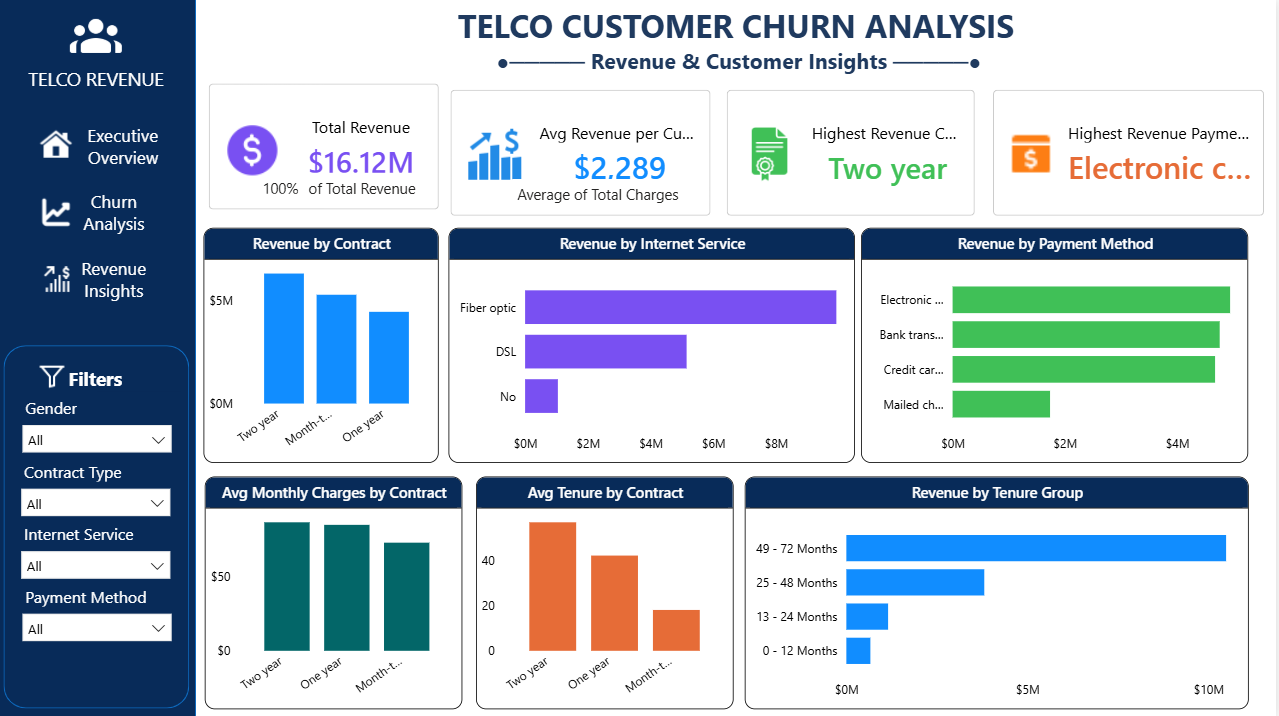

This screenshot's page, from the dashboard's own definition file:
{"tool":"powerbi","page":{"name":"Revenue Insights","canvas":[1280,720],"ordinal":2},"visuals":[{"type":"shape","box":[0,0,200,720],"z":0},{"type":"image","box":[55.7,11.4,87.1,51.4],"z":1000},{"type":"textbox","box":[0,62.9,200,37.1],"z":2000},{"type":"actionButton","box":[7.1,114.3,185.7,65.7],"z":3000},{"type":"actionButton","box":[7.3,179.8,185.9,66],"z":4000},{"type":"actionButton","box":[7.3,245.8,185.9,67.3],"z":5000},{"type":"shape","box":[7.2,346.2,185.8,363.1],"z":6000},{"type":"image","box":[30,362.9,51.4,31.4],"z":7000},{"type":"textbox","box":[67.1,362.9,90,38.6],"z":8000},{"type":"slicer","fields":{"Values":["public tcc.gender"]},"box":[15.7,392.1,168.9,88.1],"z":9000},{"type":"slicer","fields":{"Values":["public tcc.contract"]},"box":[14.5,456,168.9,88.1],"z":10000},{"type":"slicer","fields":{"Values":["public tcc.internet_service"]},"box":[14.5,518.8,168.9,88.1],"z":11000},{"type":"slicer","fields":{"Values":["public tcc.payment_method"]},"box":[15.7,581.5,168.9,88.1],"z":12000},{"type":"textbox","box":[200,0,1080,100],"z":13000},{"type":"cardVisual","fields":{"Data":["Measure_.Total Revenue"]},"box":[200,72.5,275,150],"z":14000},{"type":"cardVisual","fields":{"Data":["Measure_.Highest Revenue Contract"]},"box":[718.8,78.8,282.5,150],"z":15000},{"type":"cardVisual","fields":{"Data":["Measure_.Highest Revenue Payment Method"]},"box":[985,78.8,295,150],"z":16000},{"type":"textbox","box":[292.3,173.6,132.1,30.6],"z":17000},{"type":"cardVisual","fields":{"Data":["Measure_.Customer %"]},"box":[242.5,168.8,100,38.8],"z":18000},{"type":"cardVisual","fields":{"Data":["Measure_.Average Revenue per Customer"]},"box":[442.5,78.8,297.5,150],"z":19000},{"type":"textbox","box":[516.2,180,183.8,32.5],"z":20000},{"type":"columnChart","title":"Revenue by Contract ","fields":{"Category":["public tcc.contract"],"Y":["Measure_.Total Revenue"]},"box":[207.5,228.8,235,235],"z":21000},{"type":"clusteredBarChart","title":"Revenue by Internet Service","fields":{"Category":["public tcc.internet_service"],"Y":["Measure_.Total Revenue"]},"box":[452.5,228.8,406.2,235],"z":22000},{"type":"clusteredBarChart","title":"Revenue by Payment Method","fields":{"Y":["Measure_.Total Revenue"],"Category":["public tcc.payment_method"]},"box":[865,228.8,387.5,235],"z":23000},{"type":"columnChart","title":"Avg Monthly Charges by Contract ","fields":{"Category":["public tcc.contract"],"Y":["Measure_.Avg Monthly Charges (Churned)"]},"box":[208.8,477.5,257.5,232.5],"z":24000},{"type":"columnChart","title":"Avg Tenure by Contract ","fields":{"Category":["public tcc.contract"],"Y":["Avg(public tcc.tenure)"]},"box":[480,477.5,257.5,232.5],"z":25000},{"type":"clusteredBarChart","title":"Revenue by Tenure Group","fields":{"Category":["public tcc.Tenure Group"],"Y":["Measure_.Total Revenue"]},"box":[750,477.5,503.8,232.5],"z":26000}]}

Visuals, with their boxes in screenshot pixels (x1, y1, x2, y2), scaled from the page's 1280x720 canvas onto the 1279x716 screenshot:
shape: Rect(0, 0, 200, 715)
image: Rect(56, 11, 143, 62)
textbox: Rect(0, 63, 200, 99)
actionButton: Rect(7, 114, 193, 179)
actionButton: Rect(7, 179, 193, 244)
actionButton: Rect(7, 244, 193, 311)
shape: Rect(7, 344, 193, 705)
image: Rect(30, 361, 81, 392)
textbox: Rect(67, 361, 157, 399)
slicer - public tcc.gender: Rect(16, 390, 184, 478)
slicer - public tcc.contract: Rect(14, 453, 183, 541)
slicer - public tcc.internet_service: Rect(14, 516, 183, 604)
slicer - public tcc.payment_method: Rect(16, 578, 184, 666)
textbox: Rect(200, 0, 1278, 99)
cardVisual - Measure_.Total Revenue: Rect(200, 72, 475, 221)
cardVisual - Measure_.Highest Revenue Contract: Rect(718, 78, 1001, 228)
cardVisual - Measure_.Highest Revenue Payment Method: Rect(984, 78, 1278, 228)
textbox: Rect(292, 173, 424, 203)
cardVisual - Measure_.Customer %: Rect(242, 168, 342, 206)
cardVisual - Measure_.Average Revenue per Customer: Rect(442, 78, 739, 228)
textbox: Rect(516, 179, 699, 211)
"Revenue by Contract " columnChart: Rect(207, 228, 442, 461)
"Revenue by Internet Service" clusteredBarChart: Rect(452, 228, 858, 461)
"Revenue by Payment Method" clusteredBarChart: Rect(864, 228, 1252, 461)
"Avg Monthly Charges by Contract " columnChart: Rect(209, 475, 466, 706)
"Avg Tenure by Contract " columnChart: Rect(480, 475, 737, 706)
"Revenue by Tenure Group" clusteredBarChart: Rect(749, 475, 1253, 706)
